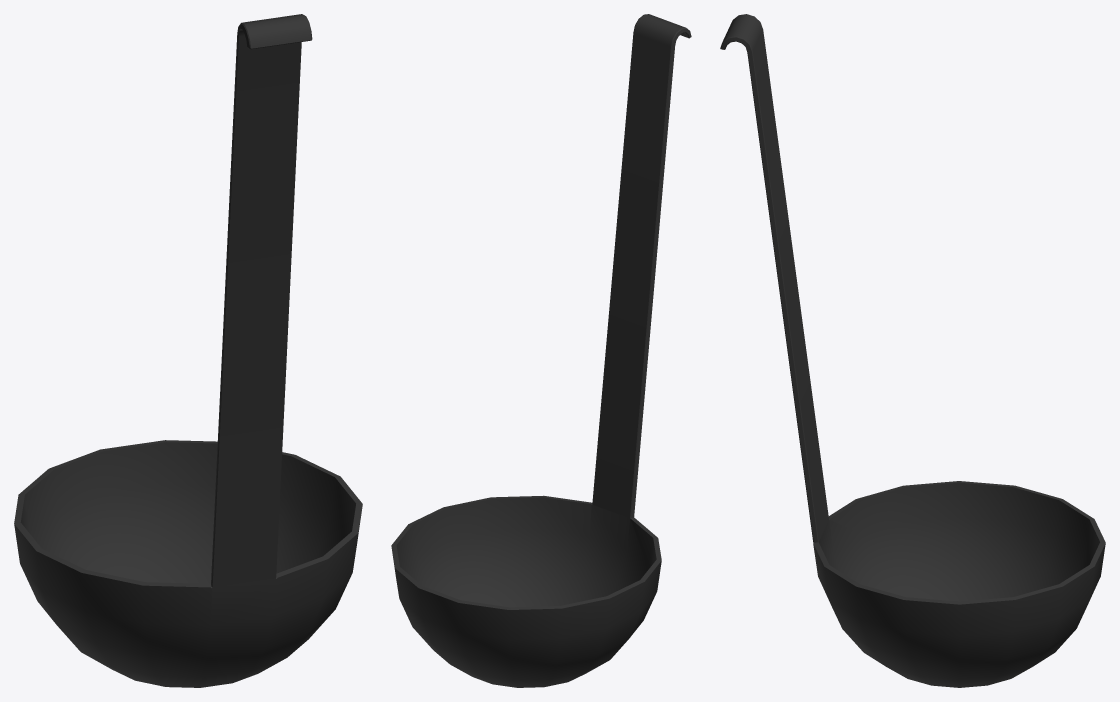
The model's file is Laddle.glb.
3 views of the same model, side by side, from view 1: azimuth 30°, elevation 25°; view 2: azimuth 150°, elevation 25°; view 3: azimuth 270°, elevation 25° (orthographic). The views are drawn at different scales.
Parts seen in each view (by area): view 1: Laddle; view 2: Laddle; view 3: Laddle.
Part boxes in pixels (left/top/right/bottom): Laddle: left=14, top=14, right=362, bottom=687; Laddle: left=391, top=14, right=691, bottom=687; Laddle: left=720, top=14, right=1105, bottom=687.
Bounding box in the file's own units: 0.104 × 0.2475 × 0.137.
1 material, 1 textured.
